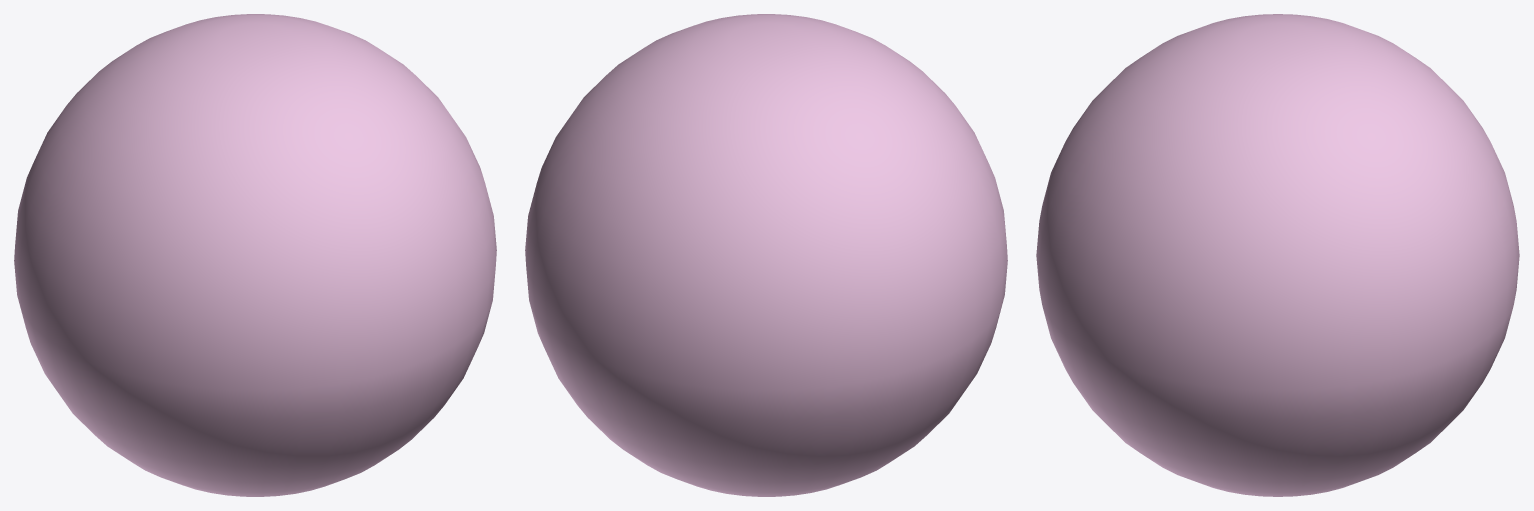
Rendered from Marble_Type04_Star_001.fbx.
3 renders of one model, left to right at view 1: azimuth 30°, elevation 25°; view 2: azimuth 150°, elevation 25°; view 3: azimuth 270°, elevation 25°, orthographic.
Visible parts, largest first — view 1: Marble_Type04_EXT_001; view 2: Marble_Type04_EXT_001; view 3: Marble_Type04_EXT_001.
Boxes of the visible parts, x1,y1,x2,y2 form: Marble_Type04_EXT_001: (14,14,496,496); Marble_Type04_EXT_001: (525,14,1007,496); Marble_Type04_EXT_001: (1036,14,1519,496).
Size of the model in its own units: 100 by 100 by 100.
